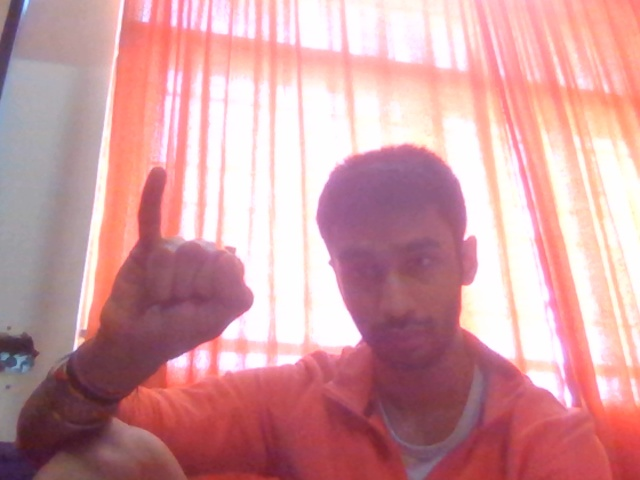I: (78, 141, 297, 474)
